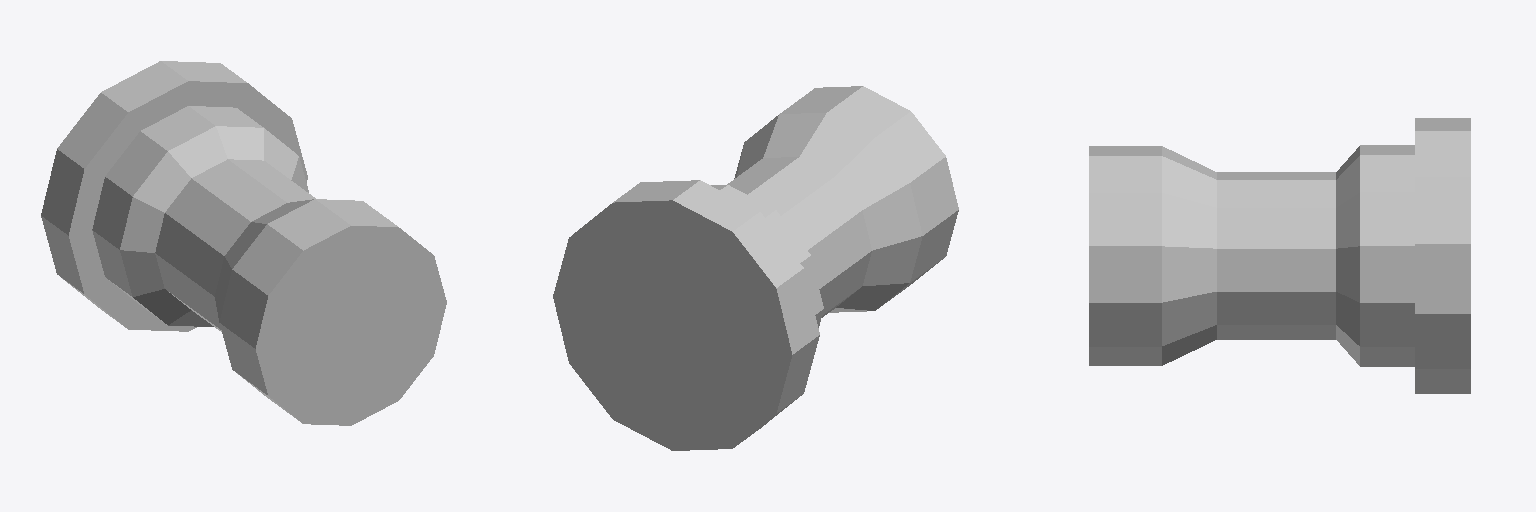
File: column.obj
The picture shows the model from 3 angles: view 1: azimuth 30°, elevation 25°; view 2: azimuth 150°, elevation 25°; view 3: azimuth 270°, elevation 25°; orthographic projection.
Visible parts, largest first — view 1: column.004; view 2: column.004; view 3: column.004.
Boxes of the visible parts, x1=… form: column.004: x1=41, y1=61, x2=446, y2=425; column.004: x1=553, y1=86, x2=958, y2=450; column.004: x1=1089, y1=118, x2=1470, y2=393.
Bounding box in the file's own units: 0.7258 × 0.7258 × 1.